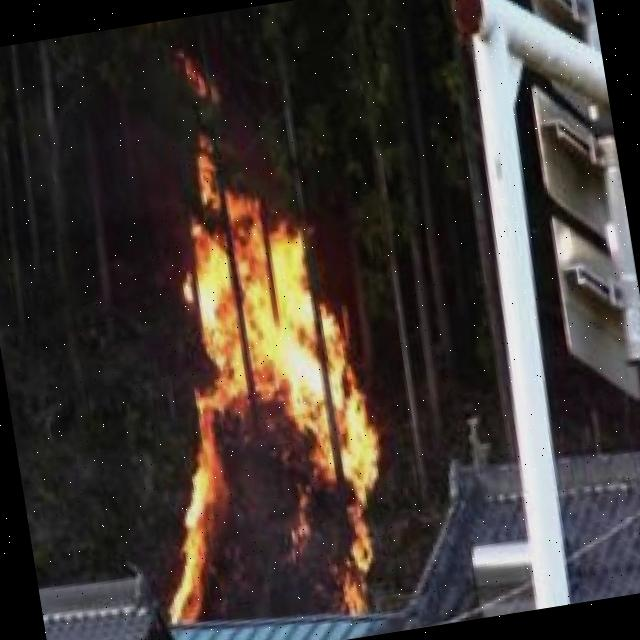fire: (106, 132, 410, 640)
